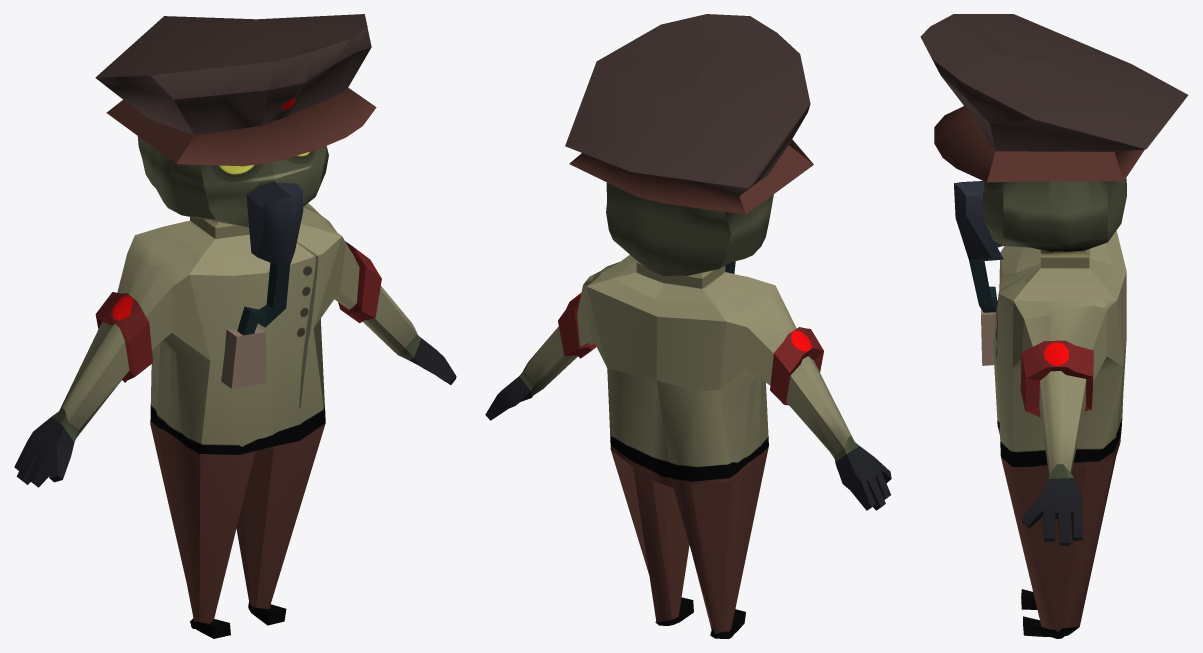
File: General.fbx
The picture shows the model from 3 angles, left to right: view 1: azimuth 30°, elevation 25°; view 2: azimuth 150°, elevation 25°; view 3: azimuth 270°, elevation 25°; orthographic projection. The views are drawn at different scales.
Parts seen in each view (by area): view 1: Mesh_Npc3; view 2: Mesh_Npc3; view 3: Mesh_Npc3.
Boxes of the visible parts, x1,y1,x2,y2 form: Mesh_Npc3: (14, 14, 456, 638); Mesh_Npc3: (485, 14, 891, 638); Mesh_Npc3: (920, 14, 1188, 638).
Bounding box in the file's own units: 6.32 × 8.68 × 3.58.
